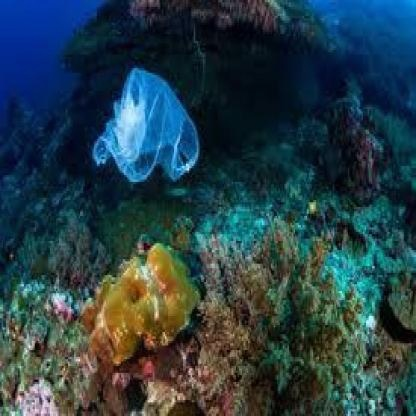pbag: (92, 66, 200, 184)
